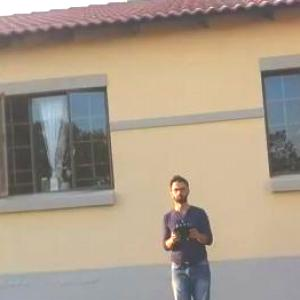follow: (158, 169, 220, 299)
